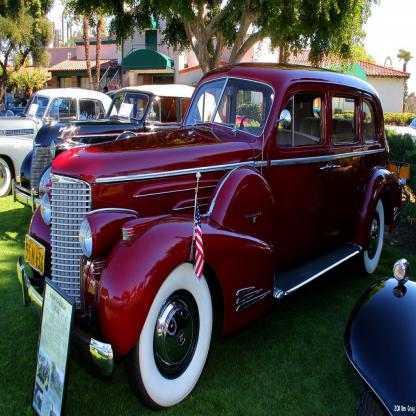Car: (76, 67, 404, 385), (11, 81, 224, 208), (0, 83, 123, 197), (343, 257, 416, 416)
